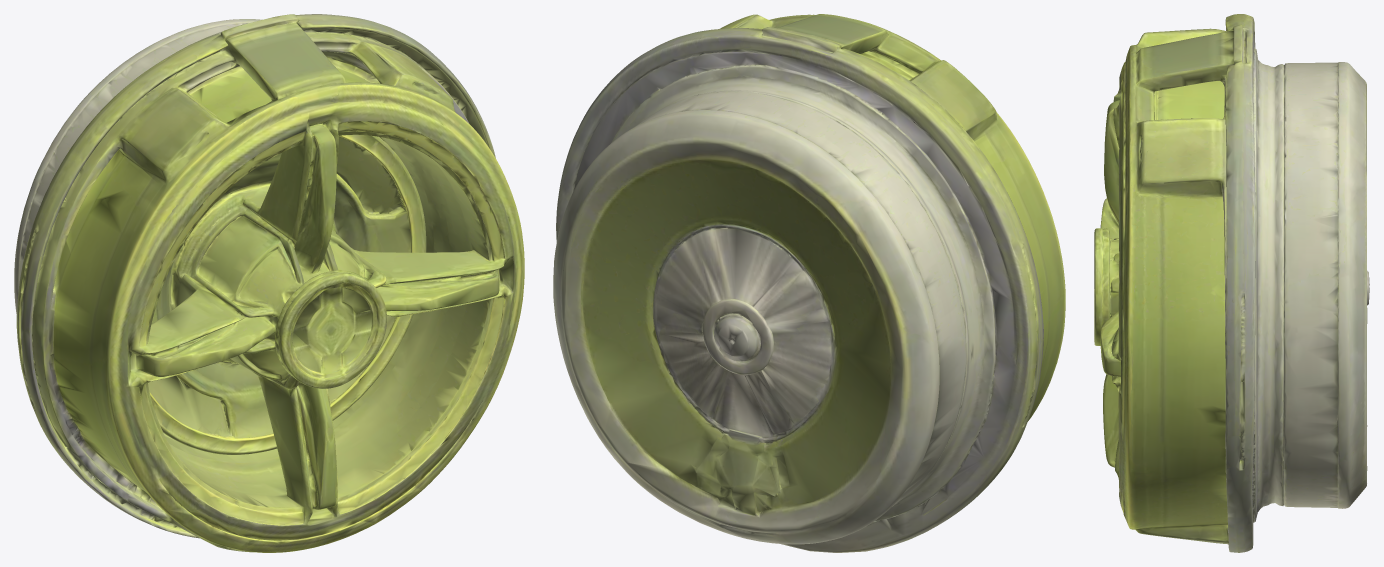
Rendered from button-call-green.glb.
3 views of the same model, side by side, from view 1: azimuth 30°, elevation 25°; view 2: azimuth 150°, elevation 25°; view 3: azimuth 270°, elevation 25° (orthographic). The views are drawn at different scales.
Size of the model in its own units: 1.17 by 1.19 by 0.6032.
1 material, 1 textured.
